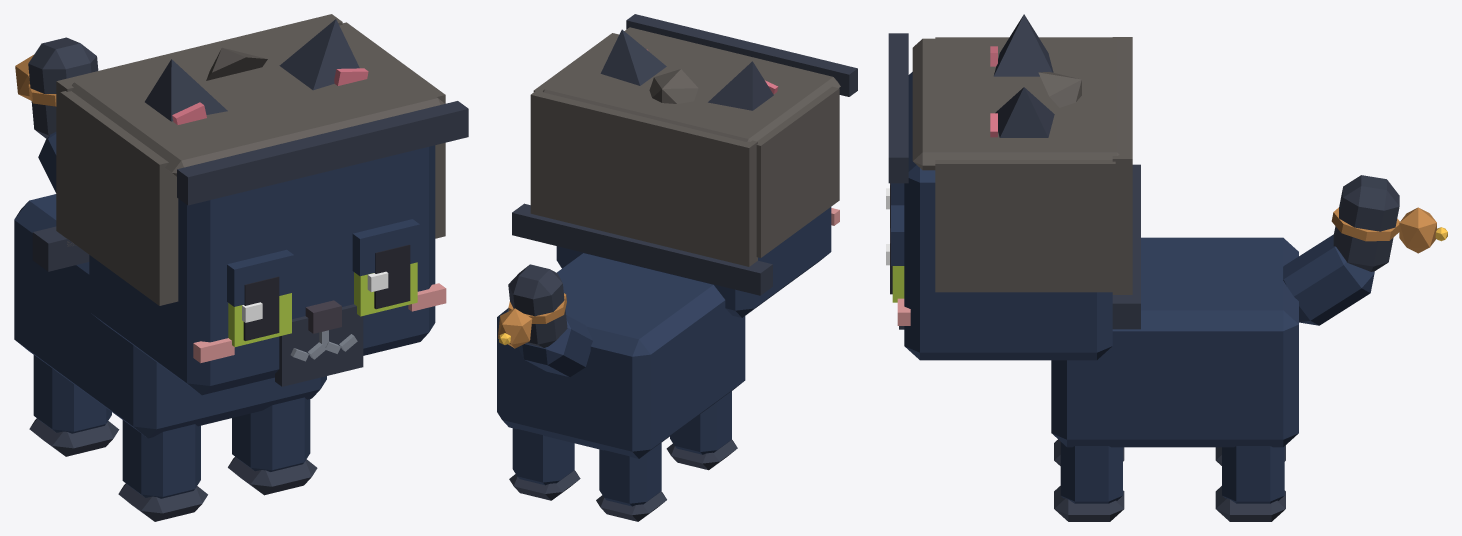
File: CatCafe_Cat_Rogue.glb
3 views of the same model, side by side, from view 1: azimuth 30°, elevation 25°; view 2: azimuth 150°, elevation 25°; view 3: azimuth 270°, elevation 25° (orthographic). The views are drawn at different scales.
Parts seen in each view (by area): view 1: CatCafe_Cat_Rogue_Prop, CatCafe_Cat_Rogue_Head, CatCafe_Cat_Rogue_Body, CatCafe_Cat_Rogue_LegF2, CatCafe_Cat_Rogue_LegF1, CatCafe_Cat_Rogue_Eye2, CatCafe_Cat_Rogue_Eye1, CatCafe_Cat_Rogue_LegB2, CatCafe_Cat_Rogue_Tail, CatCafe_Cat_Rogue_EarL, CatCafe_Cat_Rogue_EarR, CatCafe_Cat_Rogue_Tail_Pouch; view 2: CatCafe_Cat_Rogue_Prop, CatCafe_Cat_Rogue_Body, CatCafe_Cat_Rogue_Tail, CatCafe_Cat_Rogue_Head, CatCafe_Cat_Rogue_LegB2, CatCafe_Cat_Rogue_LegB1, CatCafe_Cat_Rogue_LegF2, CatCafe_Cat_Rogue_EarL, CatCafe_Cat_Rogue_EarR, CatCafe_Cat_Rogue_Tail_Pouch; view 3: CatCafe_Cat_Rogue_Prop, CatCafe_Cat_Rogue_Body, CatCafe_Cat_Rogue_Head, CatCafe_Cat_Rogue_Tail, CatCafe_Cat_Rogue_LegF1, CatCafe_Cat_Rogue_LegB1, CatCafe_Cat_Rogue_EarR, CatCafe_Cat_Rogue_EarL, CatCafe_Cat_Rogue_Tail_Pouch, CatCafe_Cat_Rogue_Eye1.
Boxes of the visible parts, x1,y1,x2,y2 form: CatCafe_Cat_Rogue_Prop: (32, 14, 468, 305); CatCafe_Cat_Rogue_Head: (89, 145, 446, 395); CatCafe_Cat_Rogue_Body: (14, 194, 326, 438); CatCafe_Cat_Rogue_LegF2: (118, 420, 207, 521); CatCafe_Cat_Rogue_LegF1: (228, 397, 317, 495); CatCafe_Cat_Rogue_Eye2: (227, 249, 294, 346); CatCafe_Cat_Rogue_Eye1: (352, 219, 419, 316); CatCafe_Cat_Rogue_LegB2: (29, 355, 119, 456); CatCafe_Cat_Rogue_Tail: (28, 37, 98, 192); CatCafe_Cat_Rogue_EarL: (279, 19, 368, 90); CatCafe_Cat_Rogue_EarR: (145, 59, 227, 124); CatCafe_Cat_Rogue_Tail_Pouch: (15, 55, 56, 106); CatCafe_Cat_Rogue_Prop: (512, 14, 857, 295); CatCafe_Cat_Rogue_Body: (497, 253, 745, 458); CatCafe_Cat_Rogue_Tail: (508, 264, 592, 377); CatCafe_Cat_Rogue_Head: (556, 207, 839, 317); CatCafe_Cat_Rogue_LegB2: (596, 442, 666, 521); CatCafe_Cat_Rogue_LegB1: (509, 428, 580, 500); CatCafe_Cat_Rogue_LegF2: (666, 391, 737, 470); CatCafe_Cat_Rogue_EarL: (600, 29, 666, 85); CatCafe_Cat_Rogue_EarR: (708, 61, 778, 110); CatCafe_Cat_Rogue_Tail_Pouch: (498, 293, 566, 348); CatCafe_Cat_Rogue_Prop: (888, 33, 1140, 329); CatCafe_Cat_Rogue_Body: (1051, 237, 1298, 447); CatCafe_Cat_Rogue_Head: (897, 72, 1112, 360); CatCafe_Cat_Rogue_Tail: (1283, 175, 1399, 325); CatCafe_Cat_Rogue_LegF1: (1054, 442, 1124, 521); CatCafe_Cat_Rogue_LegB1: (1215, 446, 1285, 521); CatCafe_Cat_Rogue_EarR: (990, 14, 1053, 76); CatCafe_Cat_Rogue_EarL: (990, 87, 1054, 137); CatCafe_Cat_Rogue_Tail_Pouch: (1331, 207, 1447, 253); CatCafe_Cat_Rogue_Eye1: (886, 205, 904, 302).
Bounding box in the file's own units: 1.26 × 1.86 × 2.16.
Materials: 1 (1 with a texture image).
